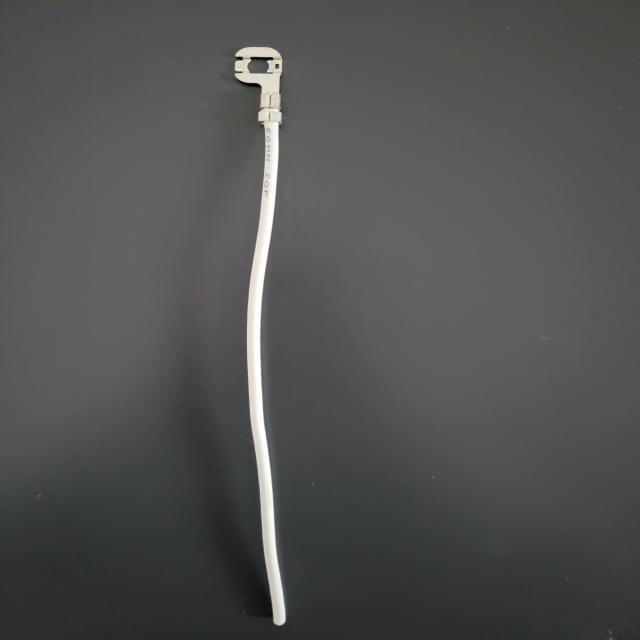good: (28, 0, 616, 631)
